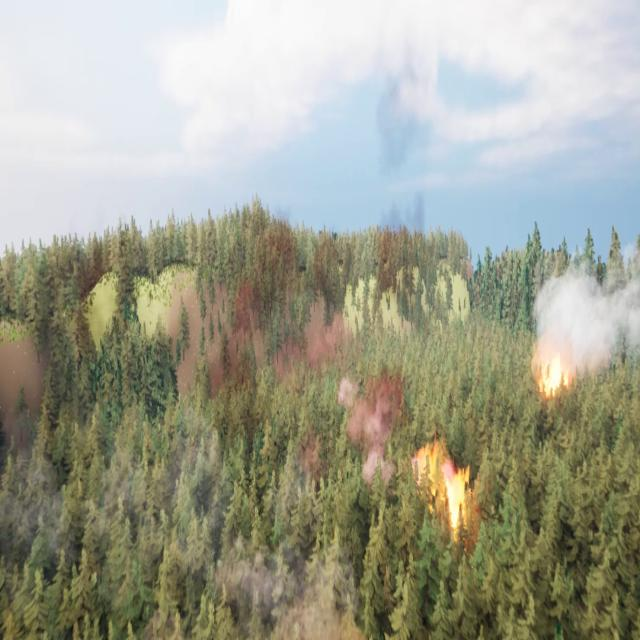fire: (407, 444, 473, 555), (534, 356, 572, 399)
smoke: (539, 263, 640, 375), (332, 351, 406, 473)
